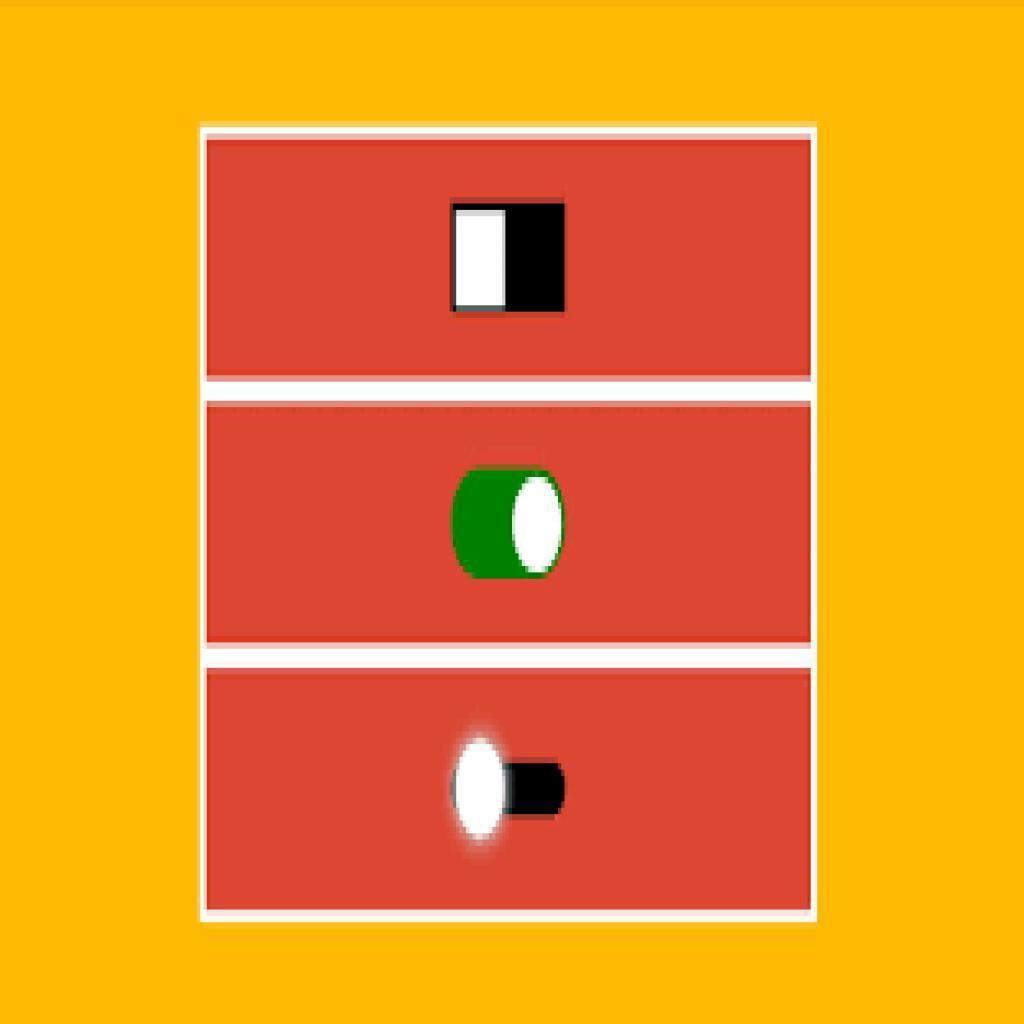slider: (450, 733, 568, 842)
switch: (453, 465, 567, 582), (456, 205, 565, 312)
